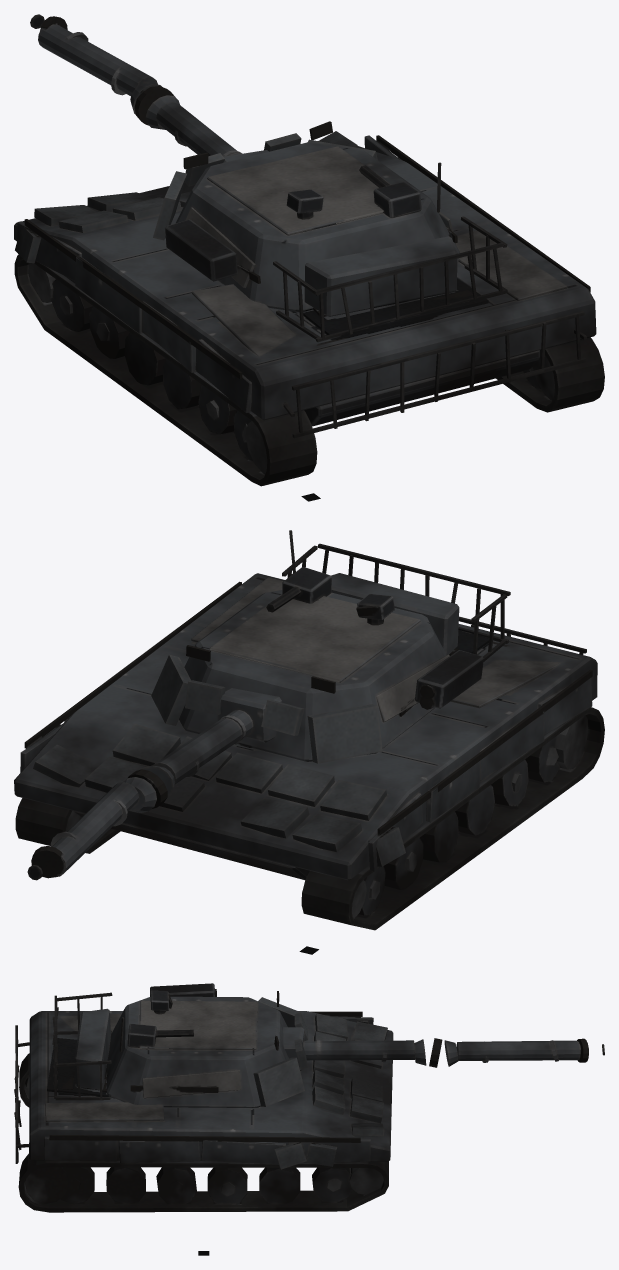
Rendered from chs_ravager_wreck.fbx.
3 views of the same model, one above another, from view 1: azimuth 30°, elevation 25°; view 2: azimuth 150°, elevation 25°; view 3: azimuth 270°, elevation 25° (orthographic). The views are drawn at different scales.
Visible parts, largest first — view 1: base_bar, turret_bar, barrel_bar; view 2: base_bar, turret_bar, barrel_bar; view 3: base_bar, turret_bar, barrel_bar.
Boxes of the visible parts, x1,y1,x2,y2 form: base_bar: [14, 131, 604, 486]; turret_bar: [153, 121, 507, 342]; barrel_bar: [30, 14, 268, 162]; base_bar: [14, 573, 604, 930]; turret_bar: [151, 530, 510, 763]; barrel_bar: [27, 688, 281, 880]; base_bar: [14, 1011, 393, 1212]; turret_bar: [52, 983, 308, 1107]; barrel_bar: [283, 1027, 604, 1070].
Size of the model in its own units: 592 by 536 by 1096.
2 materials, 2 textured.
